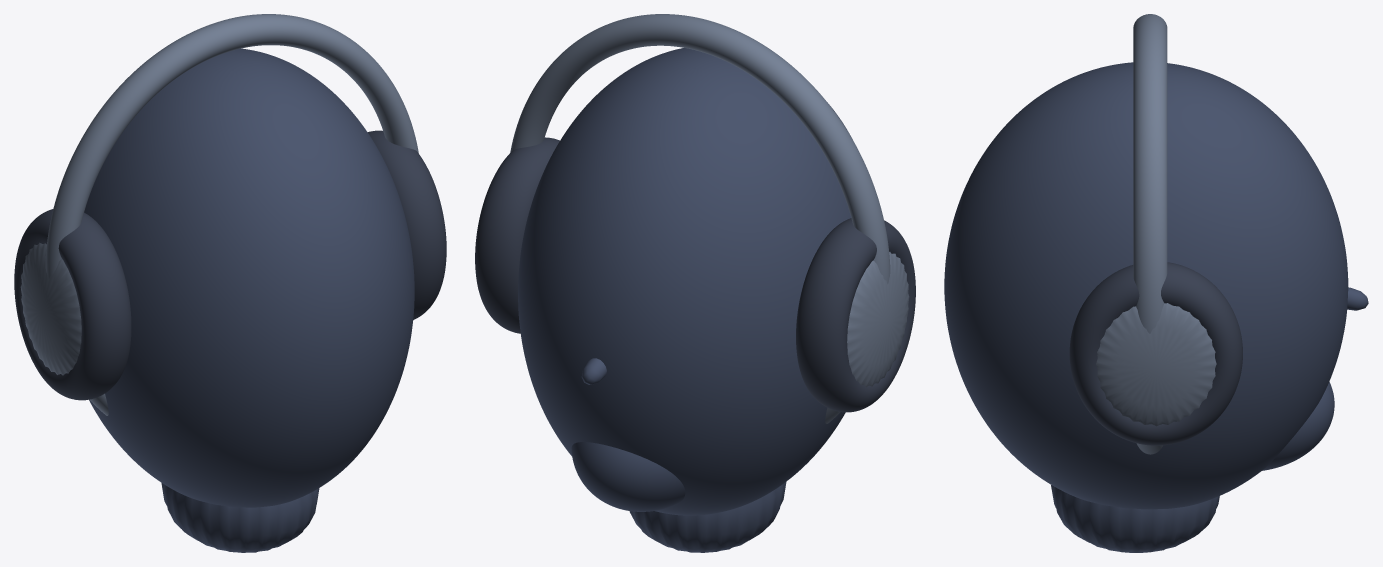
File: listener_head.glb
3 renders of one model, left to right at view 1: azimuth 30°, elevation 25°; view 2: azimuth 150°, elevation 25°; view 3: azimuth 270°, elevation 25°, orthographic. The views are drawn at different scales.
Parts seen in each view (by area): view 1: Orbiter_Listener_Head; view 2: Orbiter_Listener_Head; view 3: Orbiter_Listener_Head.
Part boxes in pixels (box(x1,y1,x2,y2)): Orbiter_Listener_Head: box(14, 14, 446, 552); Orbiter_Listener_Head: box(475, 14, 915, 552); Orbiter_Listener_Head: box(944, 14, 1368, 552).
Size of the model in its own units: 2.16 by 2.84 by 2.12.
